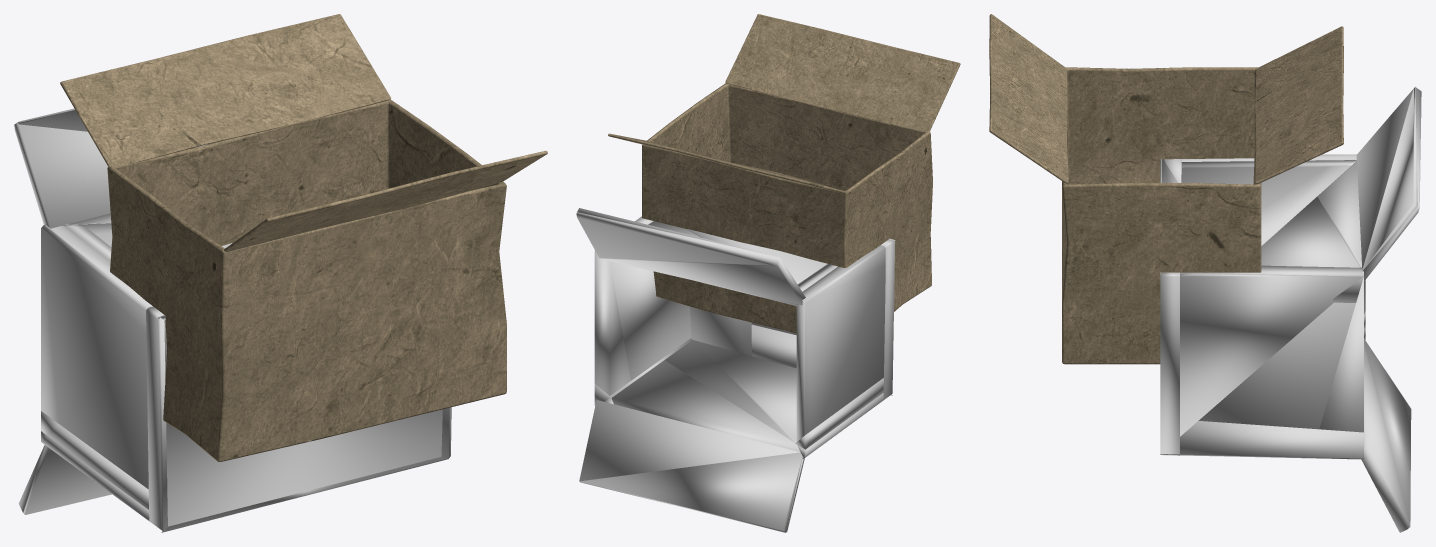
The model's file is SM_Cardboard_Open.fbx.
The picture shows the model from 3 angles, left to right: view 1: azimuth 30°, elevation 25°; view 2: azimuth 150°, elevation 25°; view 3: azimuth 270°, elevation 25°; orthographic projection. The views are drawn at different scales.
Visible parts, largest first — view 1: SM_Cardboard_Open, SM_Cardboard_Open_ConvexHulls; view 2: SM_Cardboard_Open_ConvexHulls, SM_Cardboard_Open; view 3: SM_Cardboard_Open, SM_Cardboard_Open_ConvexHulls.
Part boxes in pixels (x1,y1,x2,y2): SM_Cardboard_Open: (60, 14, 547, 461); SM_Cardboard_Open_ConvexHulls: (14, 108, 451, 532); SM_Cardboard_Open_ConvexHulls: (576, 208, 895, 532); SM_Cardboard_Open: (608, 14, 960, 333); SM_Cardboard_Open: (989, 14, 1343, 364); SM_Cardboard_Open_ConvexHulls: (1160, 87, 1421, 532).
Size of the model in its own units: 0.7331 by 1.12 by 1.08.
